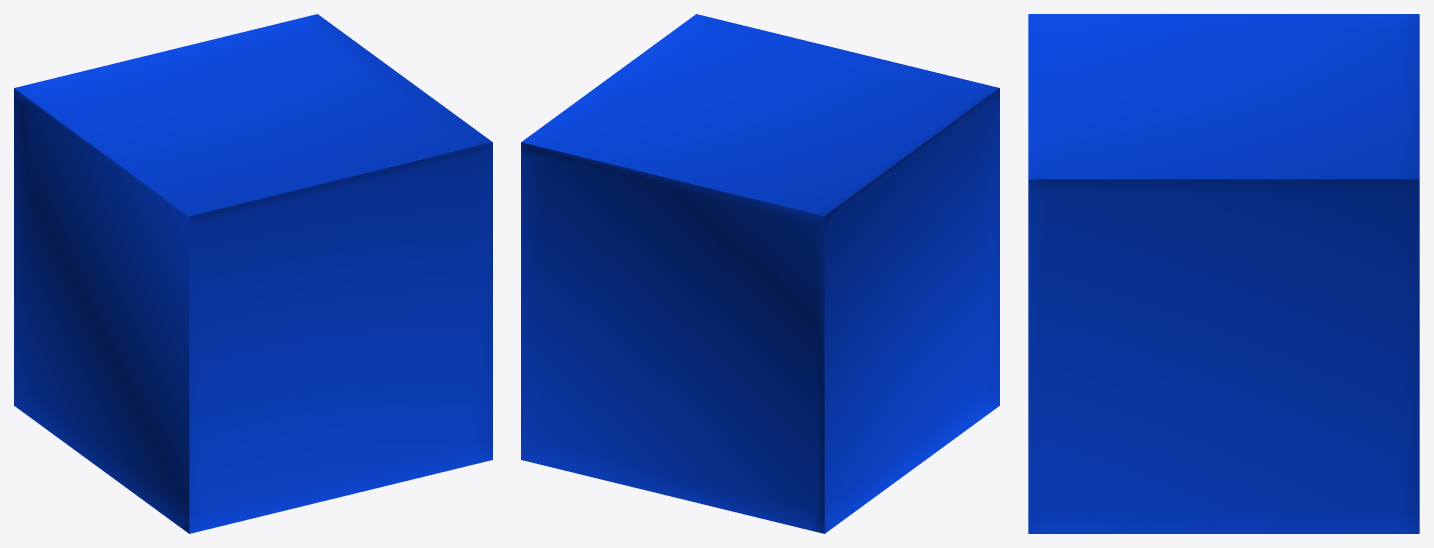
Rendered from BoxBlue.fbx.
The picture shows the model from 3 angles, left to right: view 1: azimuth 30°, elevation 25°; view 2: azimuth 150°, elevation 25°; view 3: azimuth 270°, elevation 25°; orthographic projection. The views are drawn at different scales.
Parts seen in each view (by area): view 1: pCube1; view 2: pCube1; view 3: pCube1.
Part boxes in pixels (left/top/right/bottom): pCube1: left=14, top=14, right=492, bottom=533; pCube1: left=521, top=14, right=999, bottom=533; pCube1: left=1028, top=14, right=1419, bottom=533.
Bounding box in the file's own units: 1.27 × 1.27 × 1.27.
